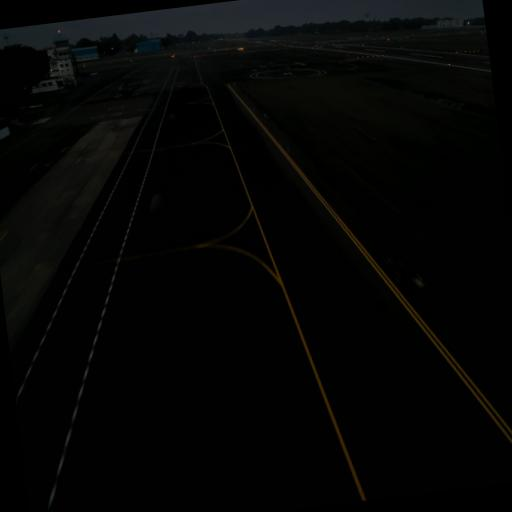on: (416, 272, 422, 285)
